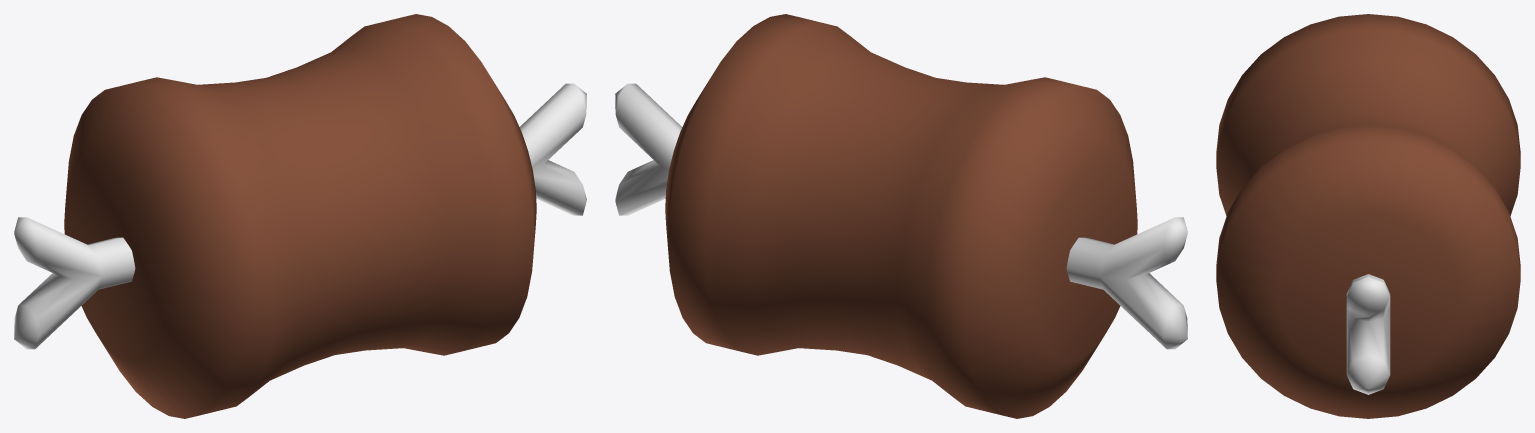
Rendered from Food.fbx.
3 renders of one model, left to right at view 1: azimuth 30°, elevation 25°; view 2: azimuth 150°, elevation 25°; view 3: azimuth 270°, elevation 25°, orthographic. The views are drawn at different scales.
Parts seen in each view (by area): view 1: Meet, Bone; view 2: Meet, Bone; view 3: Meet, Bone.
Boxes of the visible parts, <box> form: Meet: <box>64,14,536,418</box>; Bone: <box>14,83,586,349</box>; Meet: <box>665,14,1137,418</box>; Bone: <box>615,83,1187,349</box>; Meet: <box>1216,14,1520,418</box>; Bone: <box>1346,274,1390,394</box>.
Size of the model in its own units: 272 by 140 by 140.
